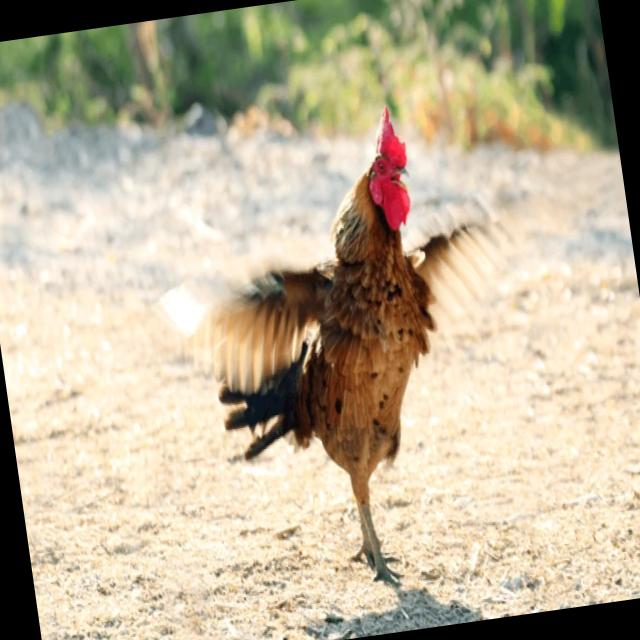wing flap: (160, 81, 557, 597)
